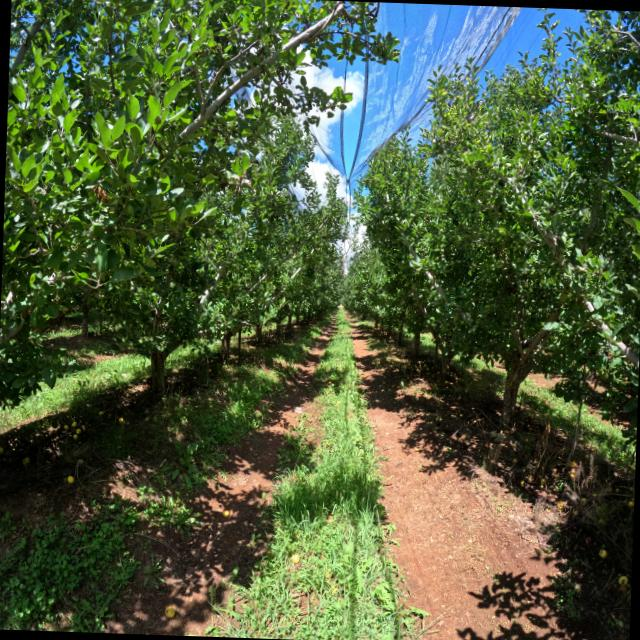-FireBlight-: (89, 180, 111, 207)
